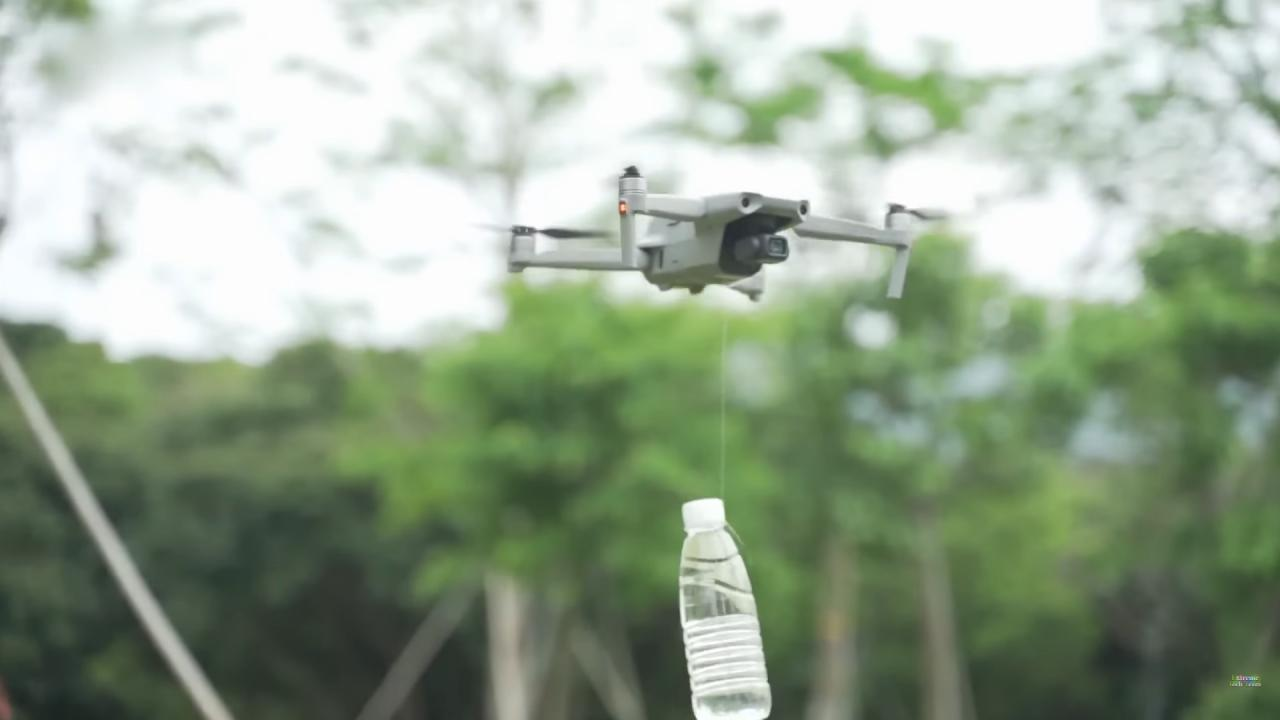Drone: (463, 146, 968, 327)
